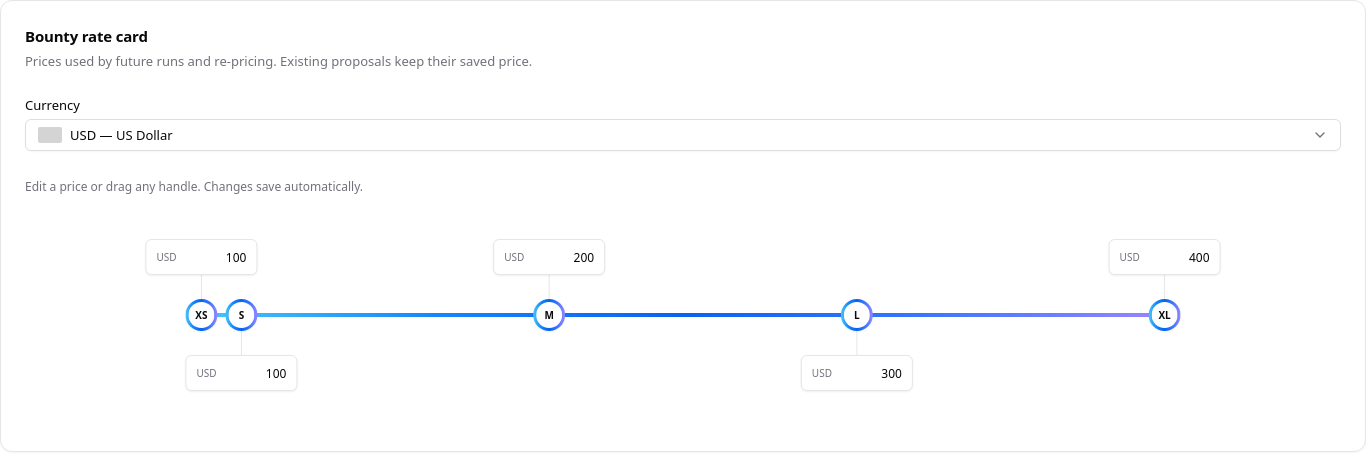
Test: endpoint rate 0 is rejected
The width and height of the screenshot is (1366, 469).
Clear the field named "XS rate" at (214, 257), box [182,240,246,274]
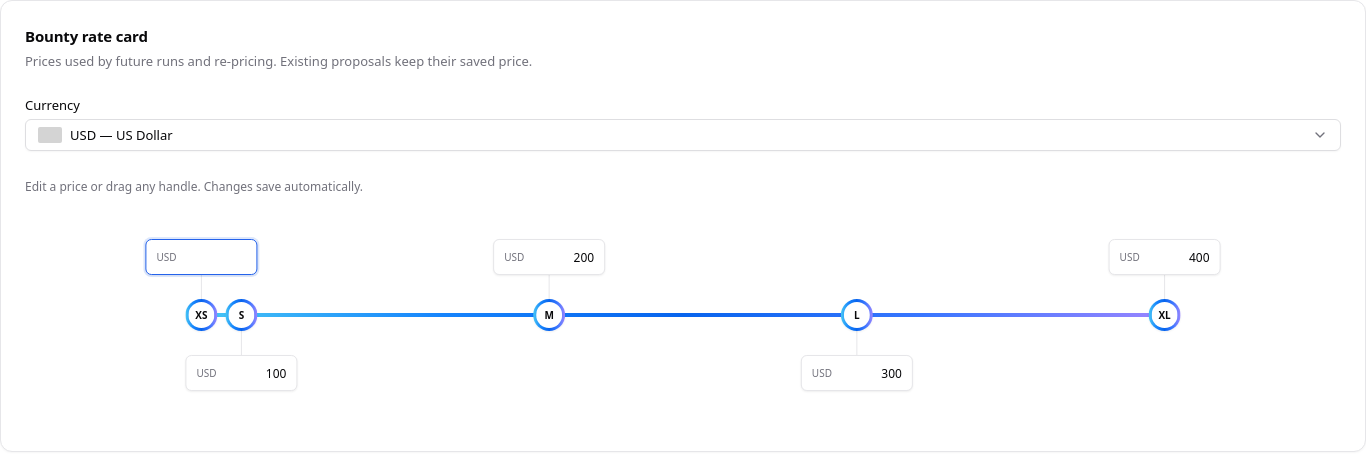
Type keys "0"
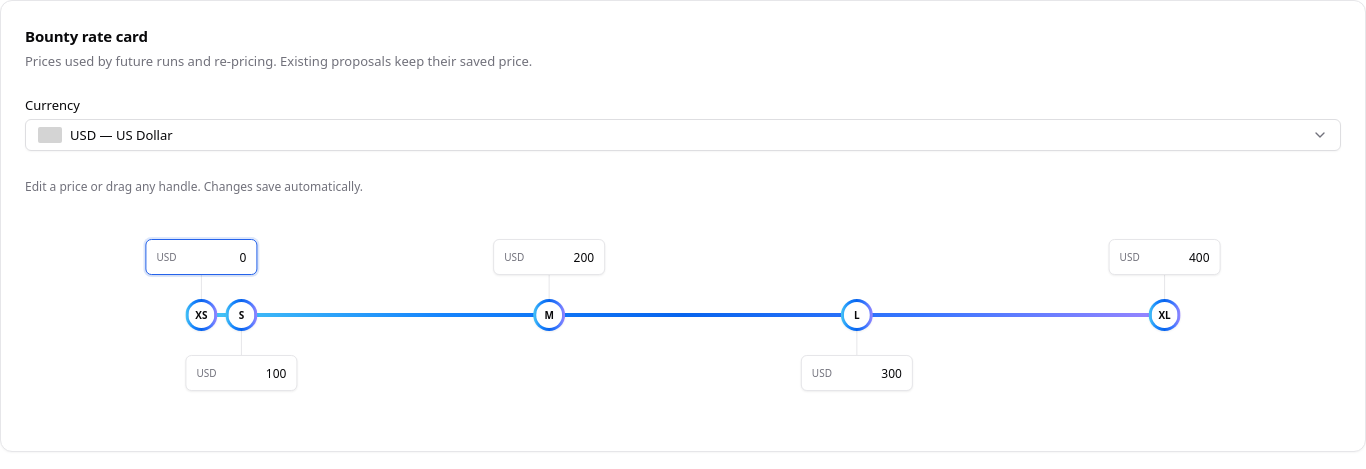
Press Enter
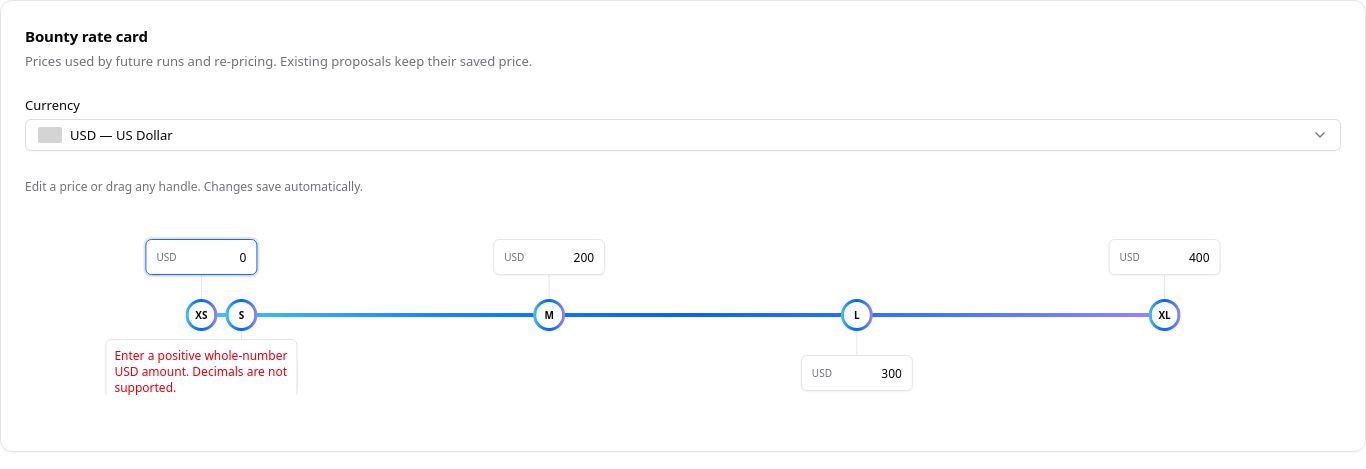
Expected: the slider named "XS rate" reads "XS", [185,299,217,331]
Now the message reads "Enter a positive whole-number USD amount. Decimals are not supported.", box [114,347,287,395]
